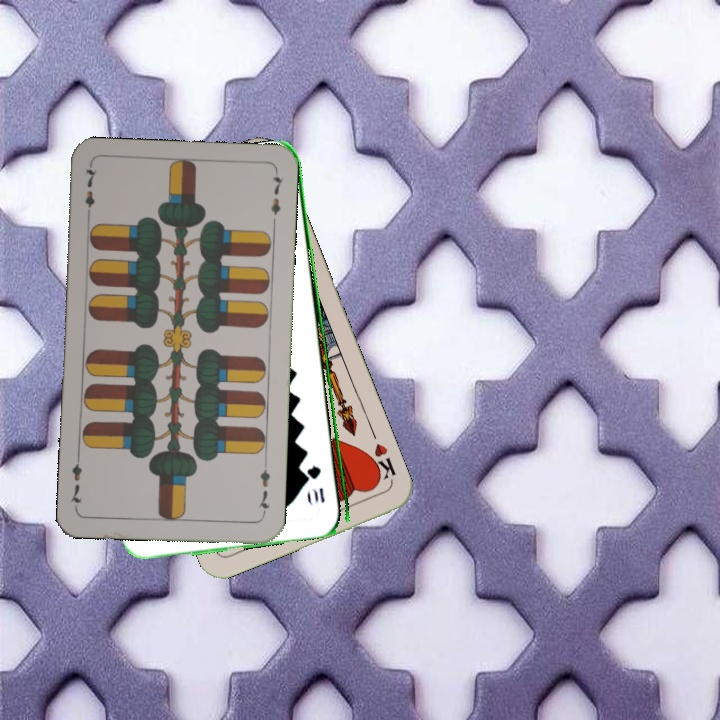E7: (81, 162, 99, 221), (254, 465, 273, 518)
G10: (307, 462, 327, 505)
HK: (363, 439, 399, 485)
